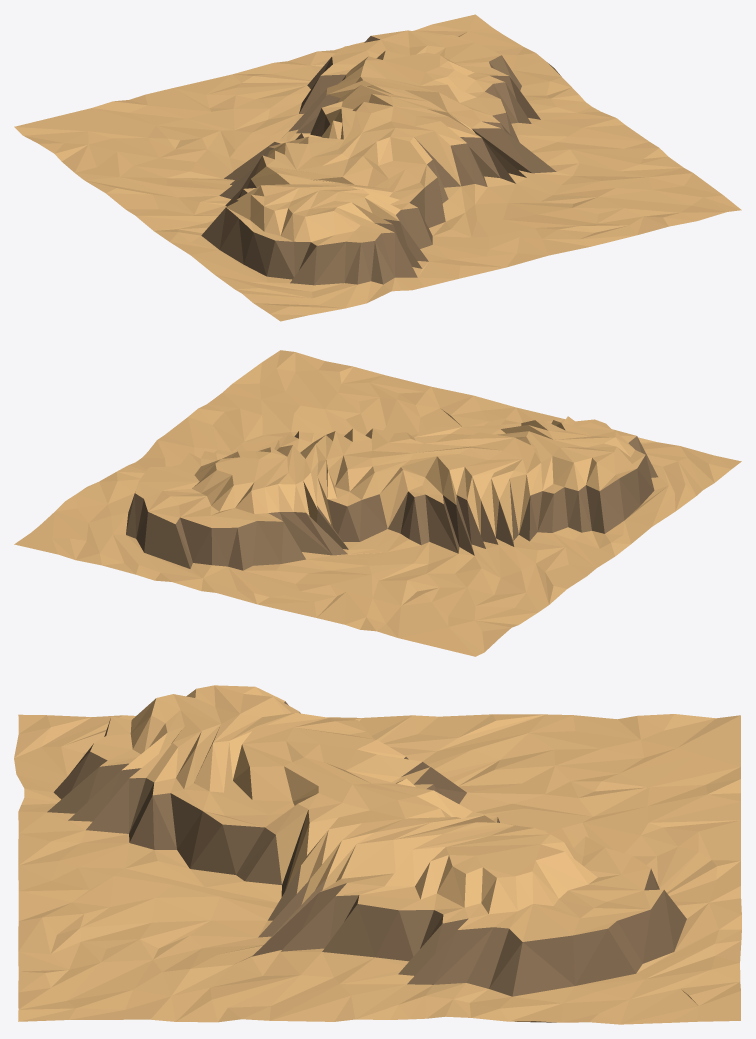
Rendered from landscape.01.fbx.
3 views of the same model, one above another, from view 1: azimuth 30°, elevation 25°; view 2: azimuth 150°, elevation 25°; view 3: azimuth 270°, elevation 25° (orthographic). The views are drawn at different scales.
Visible parts, largest first — view 1: landscape.01; view 2: landscape.01; view 3: landscape.01.
Boxes of the visible parts, box(x1,y1,x2,y2) form: landscape.01: box(14, 14, 741, 321); landscape.01: box(14, 350, 741, 656); landscape.01: box(14, 685, 741, 1024).
Bounding box in the file's own units: 3407 × 392 × 3386.
